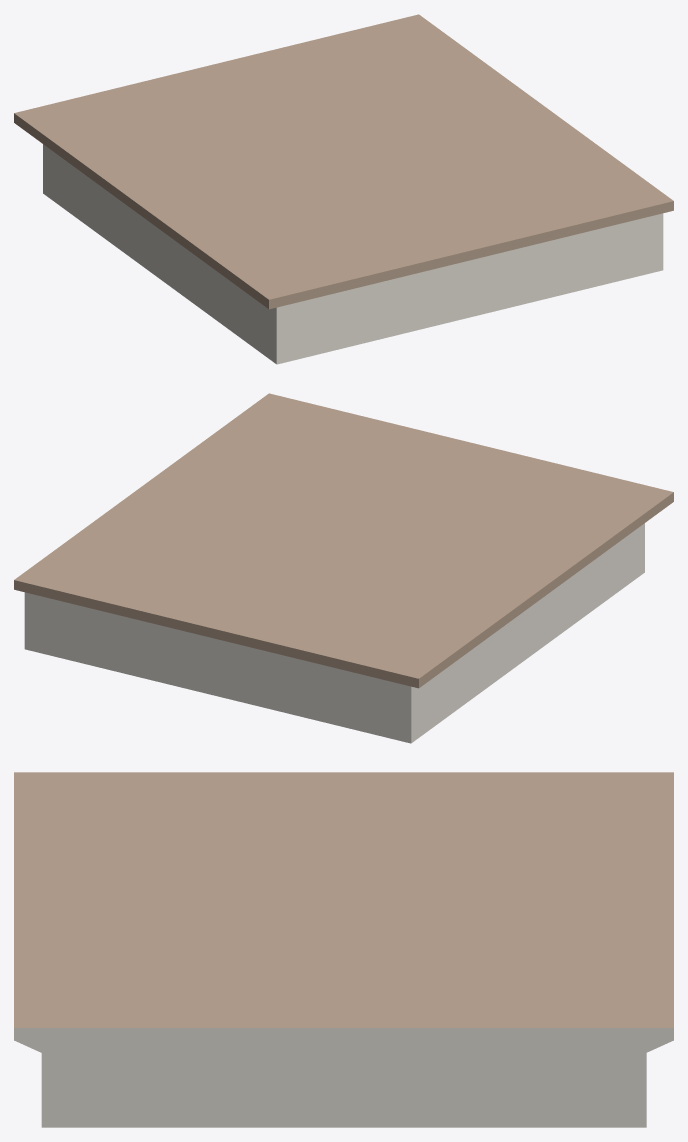
File: Structure_Balcony_3_Edges.glb
3 views of the same model, one above another, from view 1: azimuth 30°, elevation 25°; view 2: azimuth 150°, elevation 25°; view 3: azimuth 270°, elevation 25° (orthographic). The views are drawn at different scales.
Visible parts, largest first — view 1: Structure_Balcony_3_Edges; view 2: Structure_Balcony_3_Edges; view 3: Structure_Balcony_3_Edges.
Boxes of the visible parts, <box> form: Structure_Balcony_3_Edges: <box>14,14,673,364</box>; Structure_Balcony_3_Edges: <box>14,393,673,743</box>; Structure_Balcony_3_Edges: <box>14,772,673,1127</box>.
Bounding box in the file's own units: 0.495 × 0.09 × 0.54.
